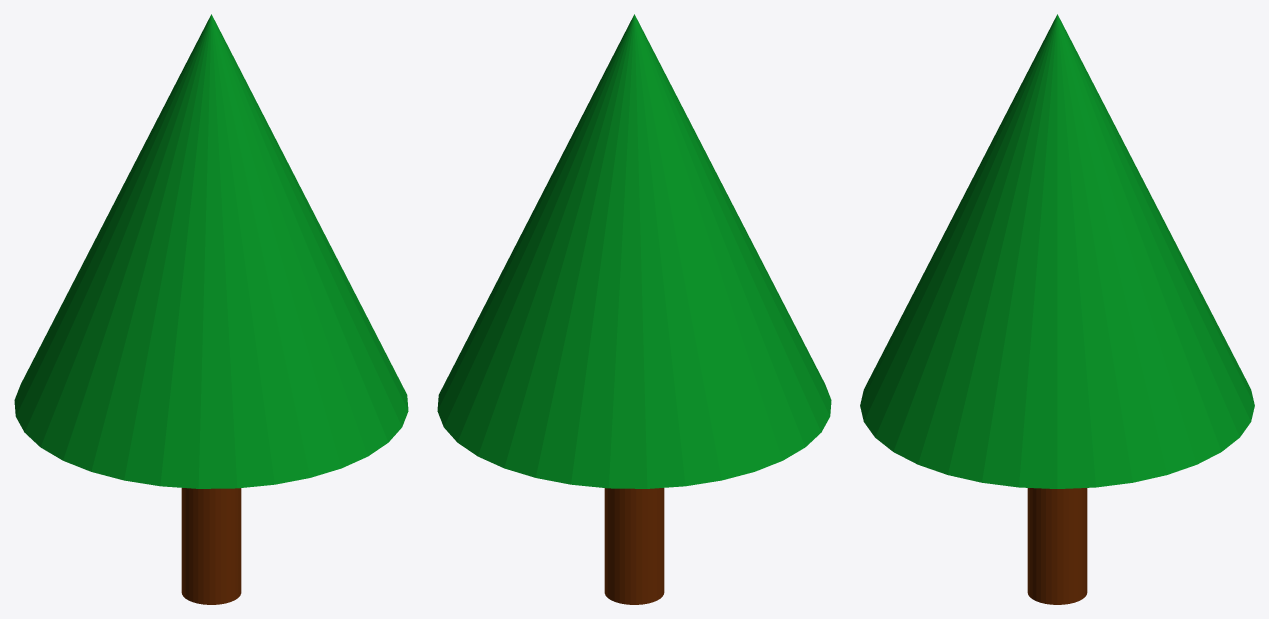
File: tree.glb
The picture shows the model from 3 angles, left to right: view 1: azimuth 30°, elevation 25°; view 2: azimuth 150°, elevation 25°; view 3: azimuth 270°, elevation 25°; orthographic projection.
Parts seen in each view (by area): view 1: Cone, Cylinder; view 2: Cone, Cylinder; view 3: Cone, Cylinder.
Part boxes in pixels (bbox=[...]): Cone: bbox=[14, 14, 408, 488]; Cylinder: bbox=[181, 488, 241, 604]; Cone: bbox=[437, 14, 831, 488]; Cylinder: bbox=[604, 488, 664, 604]; Cone: bbox=[860, 14, 1254, 488]; Cylinder: bbox=[1027, 488, 1087, 604].
Bounding box in the file's own units: 17.88 × 28.9 × 17.88.
